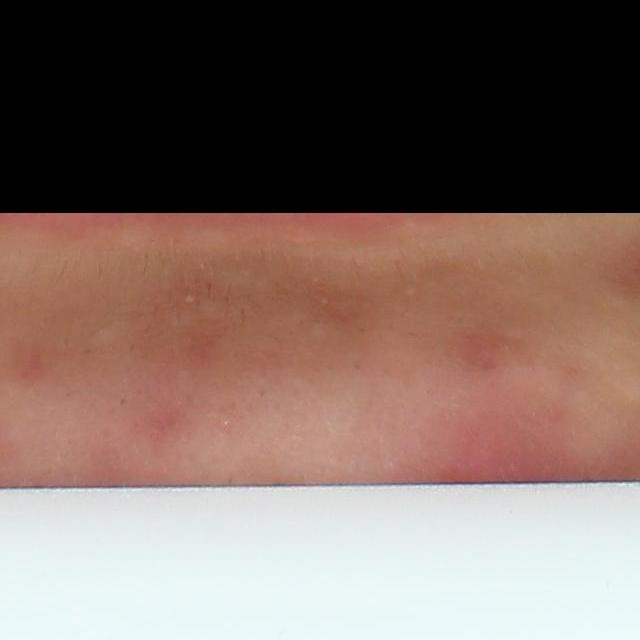comedo: (183, 293, 197, 306)
